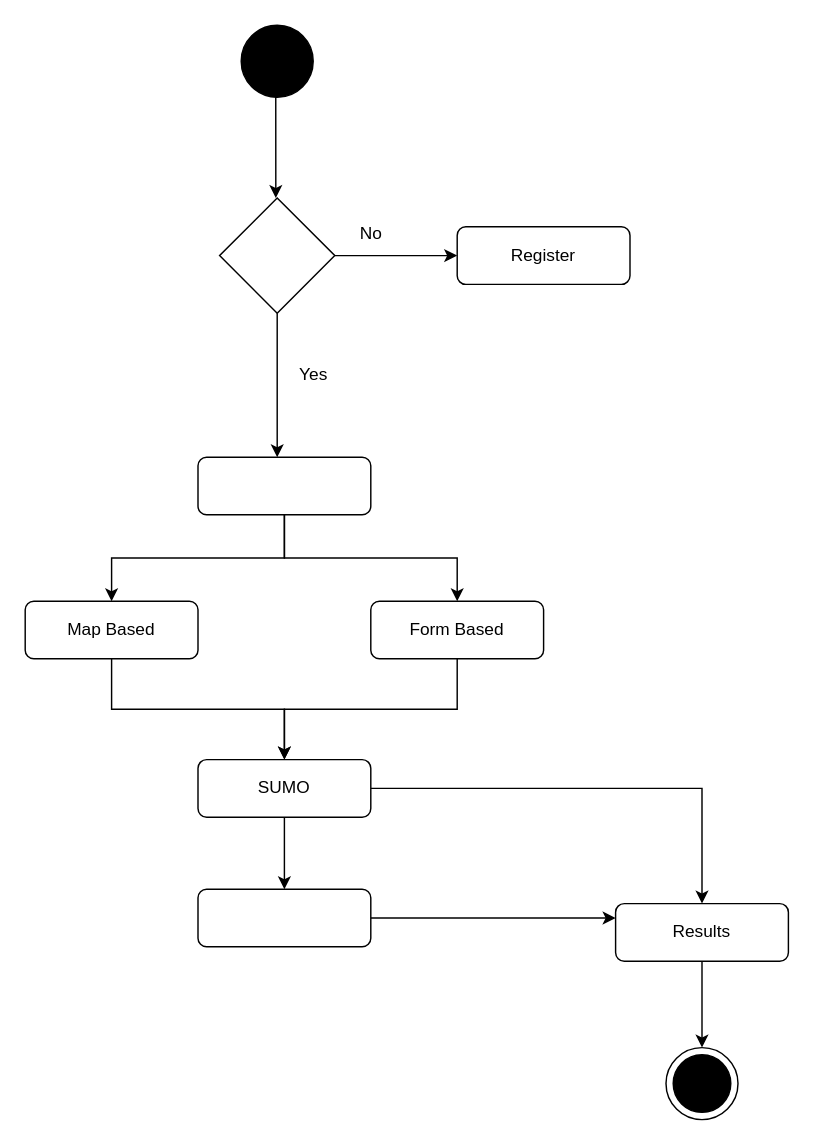
Some shapes in this 814 by 1145 pixel diagram are drawn without their labels. The centre of each missing label's shape, as x and y in pixels:
Already Register: (x=276, y=255)
Login: (x=284, y=485)
Our Algorithm: (x=284, y=917)
